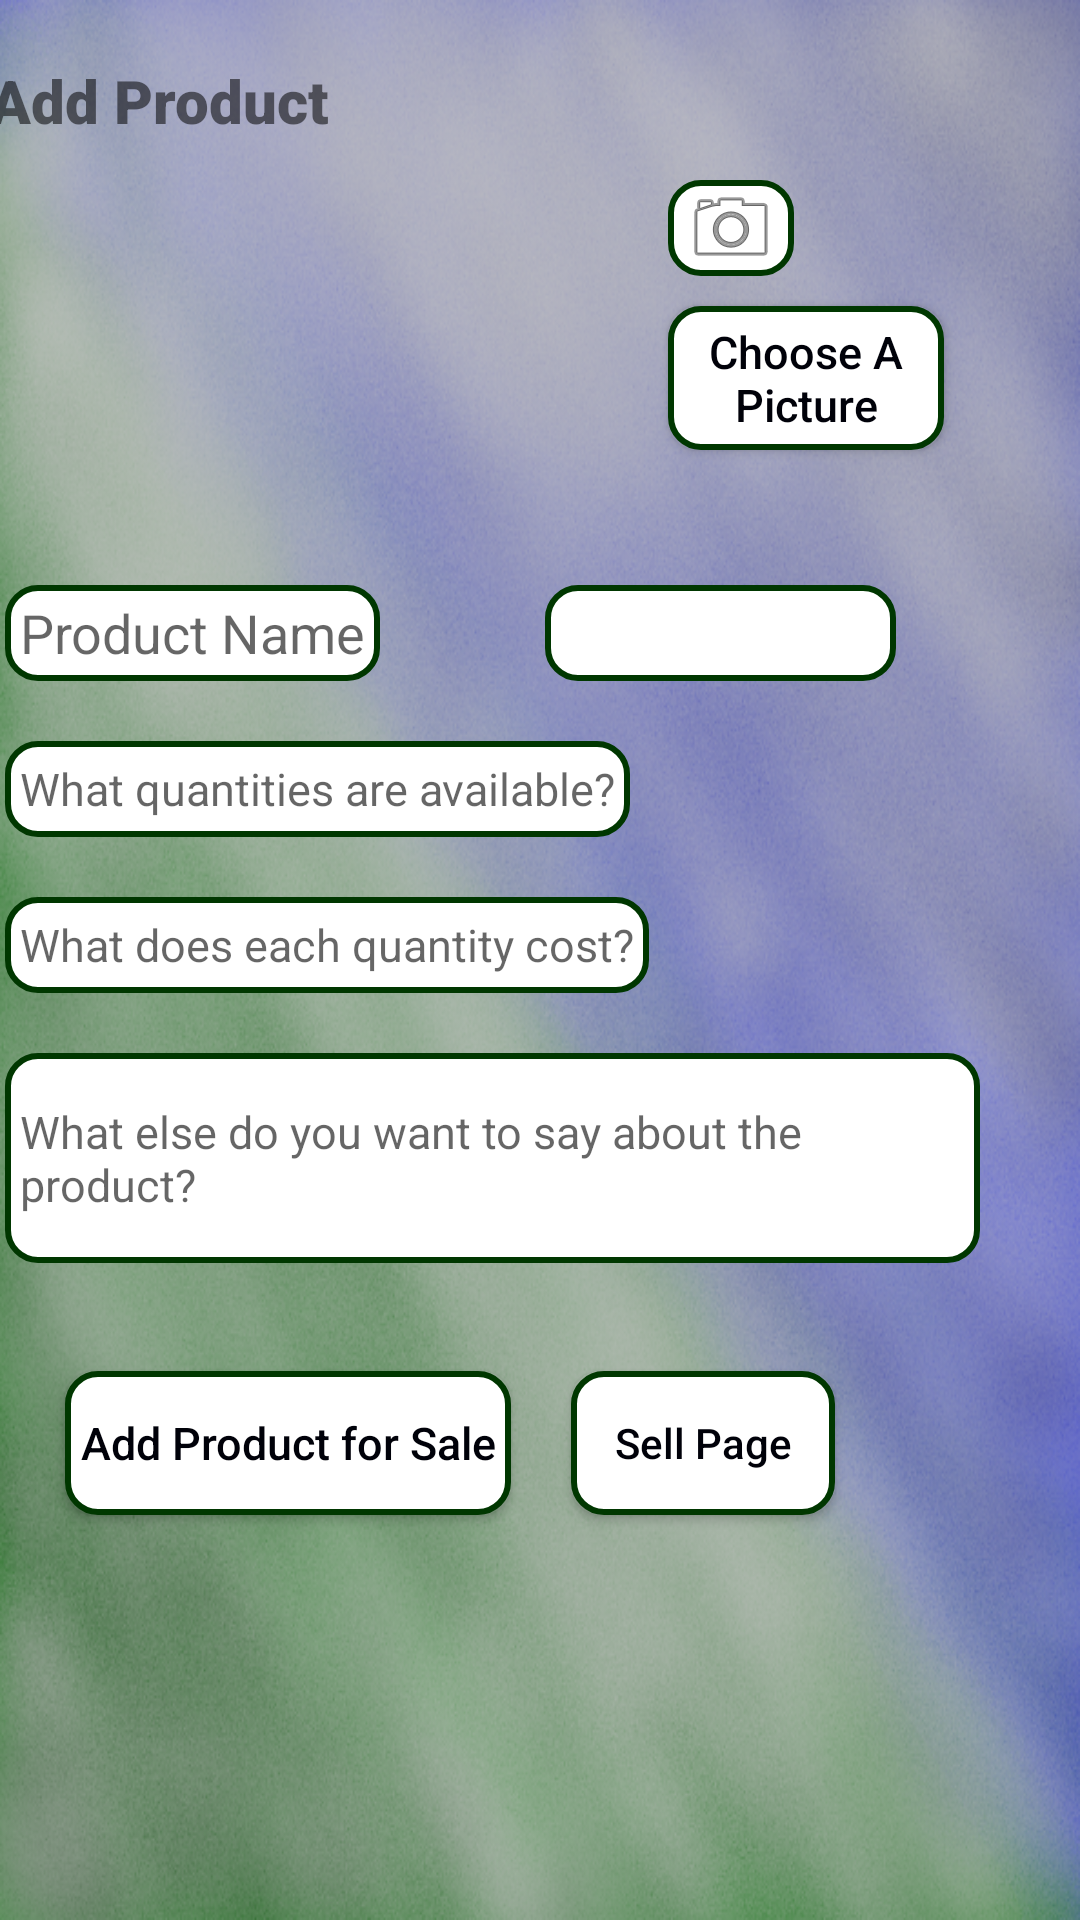

Screen size 1080x1920. Icon name, then its box in pixels as (x1, y1, x2, y2):
camera: (668, 180, 794, 276)
